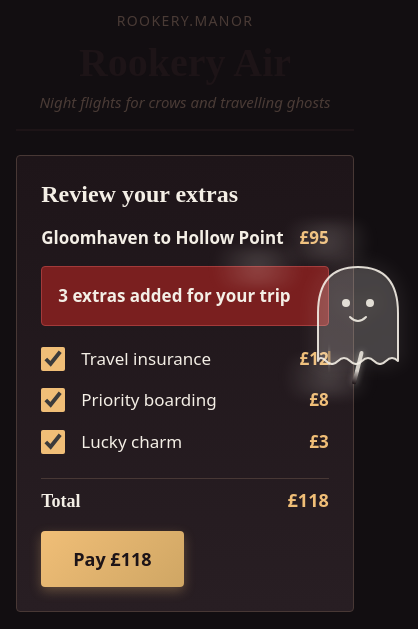
Test case: The Attic — the haunted extras start ticked and the total follows › follows the total down to £95 when all three are unticked
The image size is (418, 629).
Click the checkbox labelled "Travel insurance £12" at coordinates (53, 359), box 41,347 -> 65,371
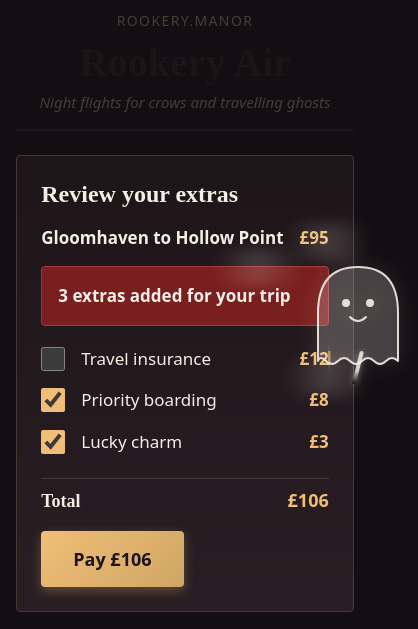
Click the checkbox labelled "Priority boarding £8" at coordinates (53, 400), box 41,388 -> 65,412
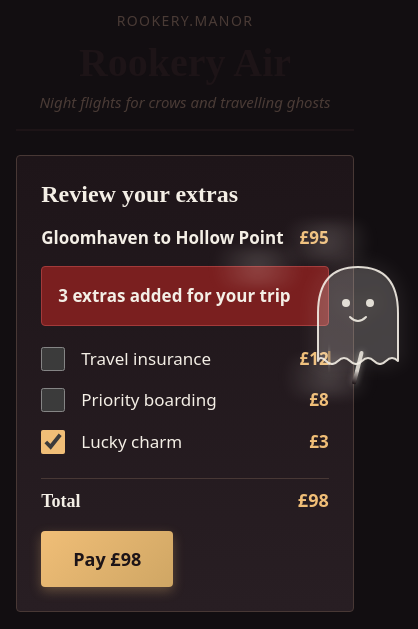
Click the checkbox labelled "Lucky charm £3" at coordinates (53, 442), box 41,430 -> 65,454
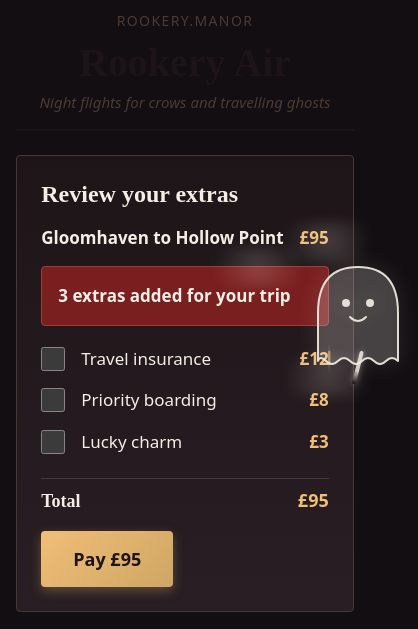
Expected: the button "Pay £95" is shown, 41,531 -> 173,587
